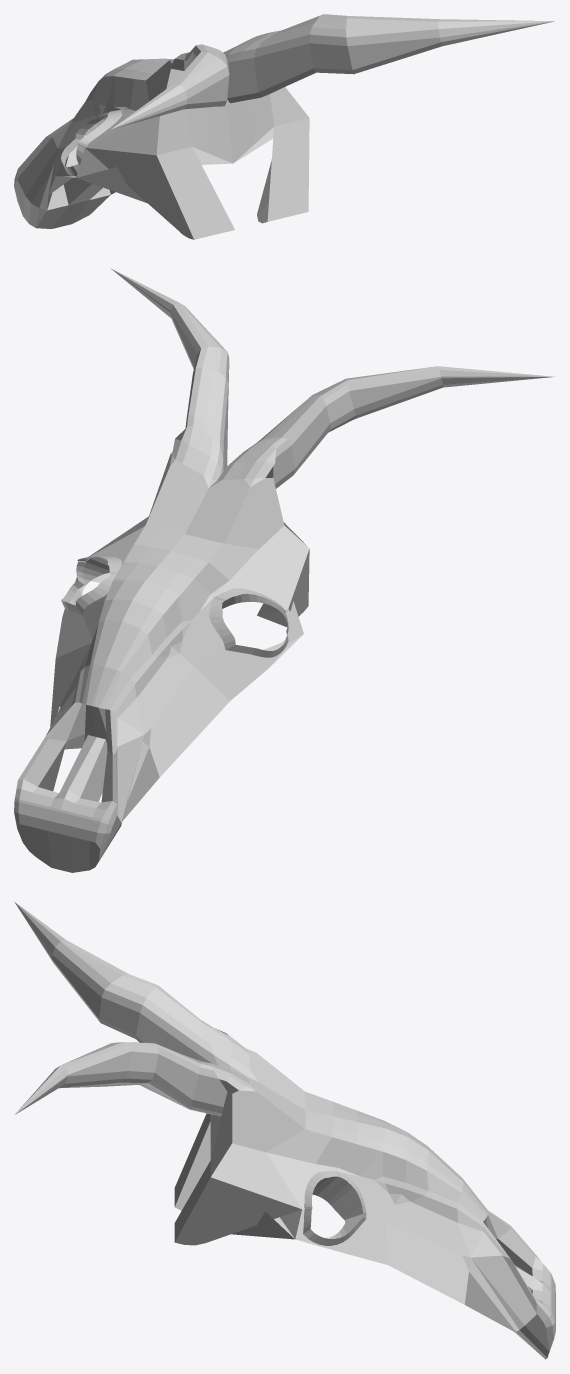
File: Skull.fbx
3 views of the same model, one above another, from view 1: azimuth 30°, elevation 25°; view 2: azimuth 150°, elevation 25°; view 3: azimuth 270°, elevation 25° (orthographic).
Parts seen in each view (by area): view 1: Cube; view 2: Cube; view 3: Cube.
Boxes of the visible parts, left/top/right/bottom form: Cube: left=14, top=14, right=554, bottom=239; Cube: left=14, top=268, right=555, bottom=872; Cube: left=14, top=901, right=555, bottom=1359.
Size of the model in its own units: 544 by 413 by 582.
1 material, 1 textured.
